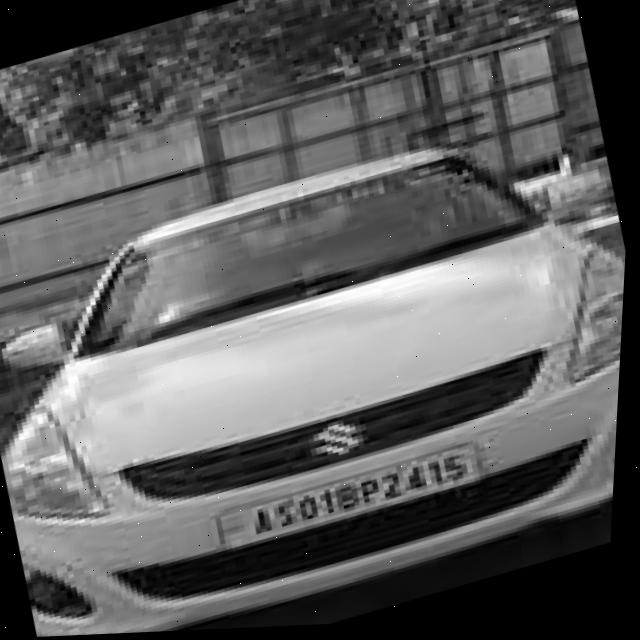car: (0, 91, 635, 640), (218, 441, 498, 560)
